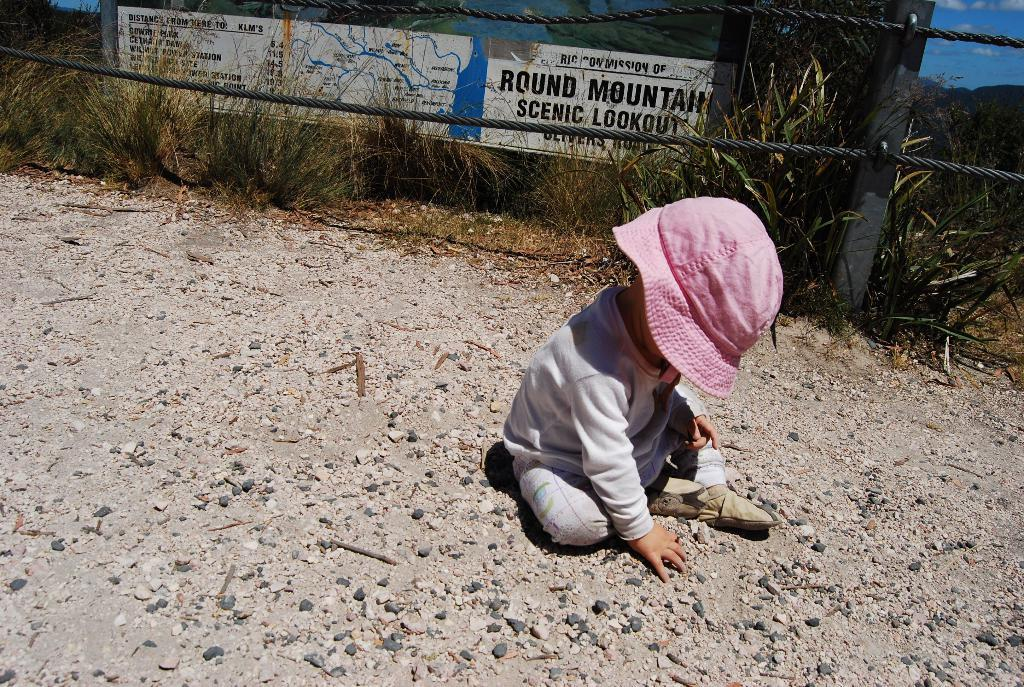Hat: (612, 194, 788, 396)
